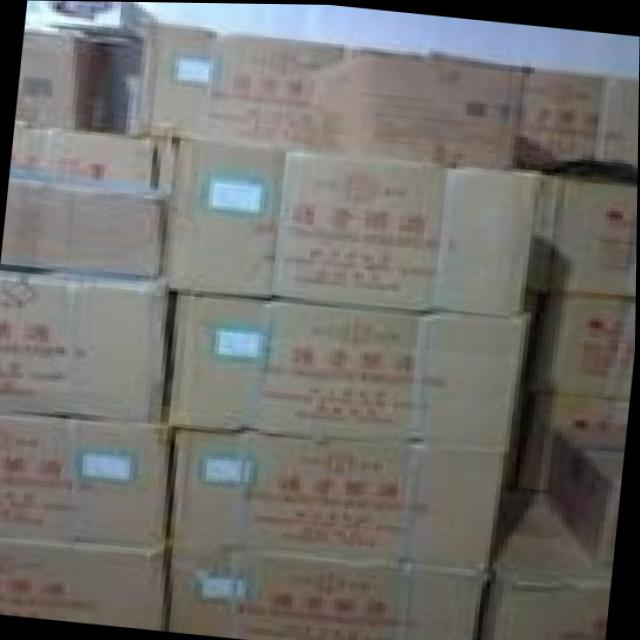box: (162, 139, 546, 310), (169, 298, 532, 449), (165, 424, 514, 573), (166, 544, 493, 640), (0, 267, 182, 422), (142, 18, 348, 154), (0, 123, 172, 279), (311, 47, 531, 167), (0, 411, 170, 544), (480, 488, 610, 640), (15, 1, 154, 136), (0, 535, 170, 630), (516, 65, 639, 176), (534, 170, 638, 295), (510, 386, 627, 488), (524, 291, 637, 393), (549, 428, 623, 562)
